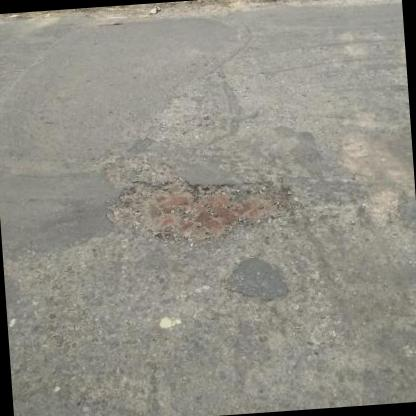pothole: (102, 170, 296, 253)
